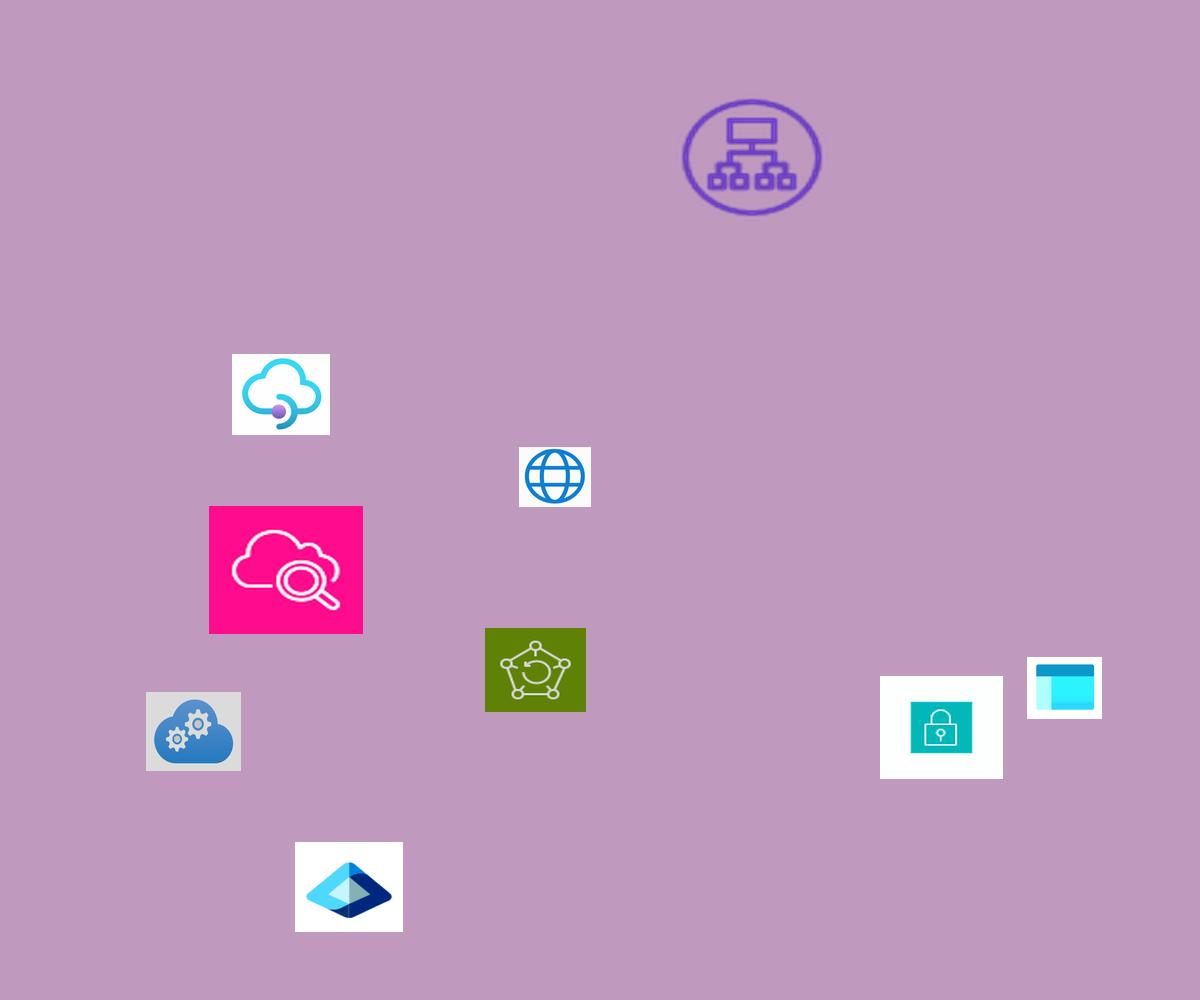AWS-Backup: (485, 628, 586, 712)
AWS-CloudWatch: (209, 506, 363, 634)
AWS-Private-subnet: (880, 676, 1003, 779)
AWS-Res_Elastic-Load-Balancing_Application-Load-Balancer: (676, 94, 828, 221)
Azure_api_gateway: (232, 354, 330, 435)
Azure_cloud_services: (146, 692, 241, 771)
Azure_http: (519, 447, 591, 507)
Azure_management-portal: (1027, 657, 1102, 719)
Azure_microsoft_entra: (295, 842, 403, 932)
